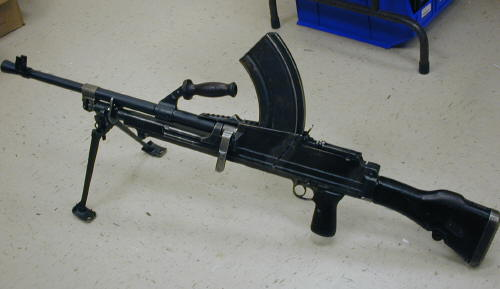rifle: (5, 30, 494, 272)
